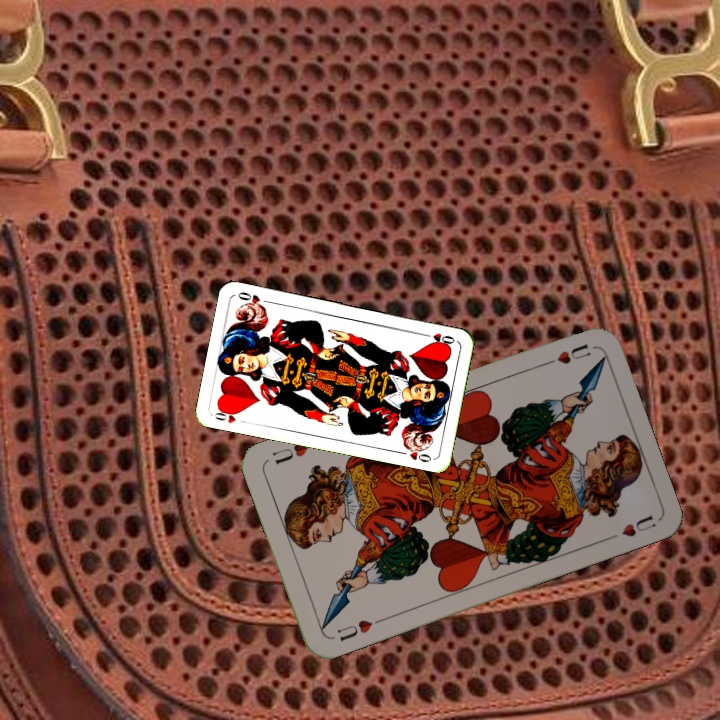HO: (211, 404, 250, 426), (418, 329, 457, 347)
HU: (538, 340, 593, 369), (332, 614, 385, 644)
